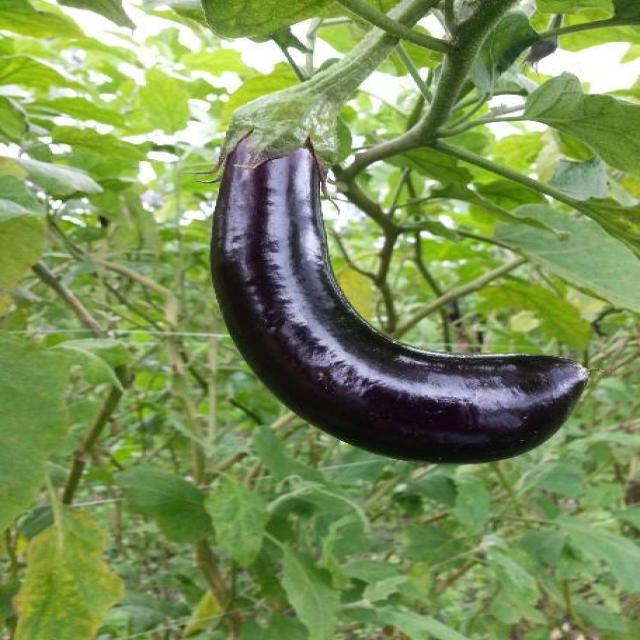eggplant: (209, 88, 594, 466)
